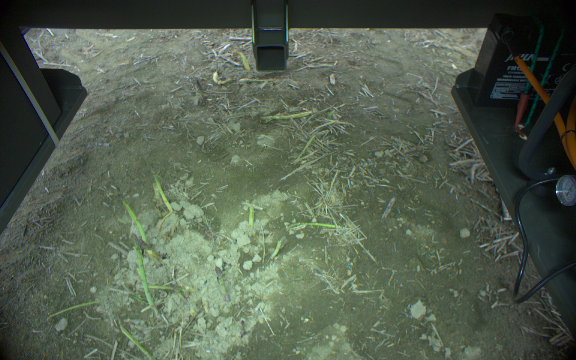aspa: (127, 235, 158, 313), (44, 297, 106, 321), (118, 197, 147, 242), (119, 322, 152, 360), (148, 167, 173, 211), (291, 133, 318, 166), (258, 108, 314, 121), (213, 266, 231, 302), (287, 222, 348, 231), (234, 51, 252, 73), (268, 239, 285, 261), (246, 206, 257, 226)
